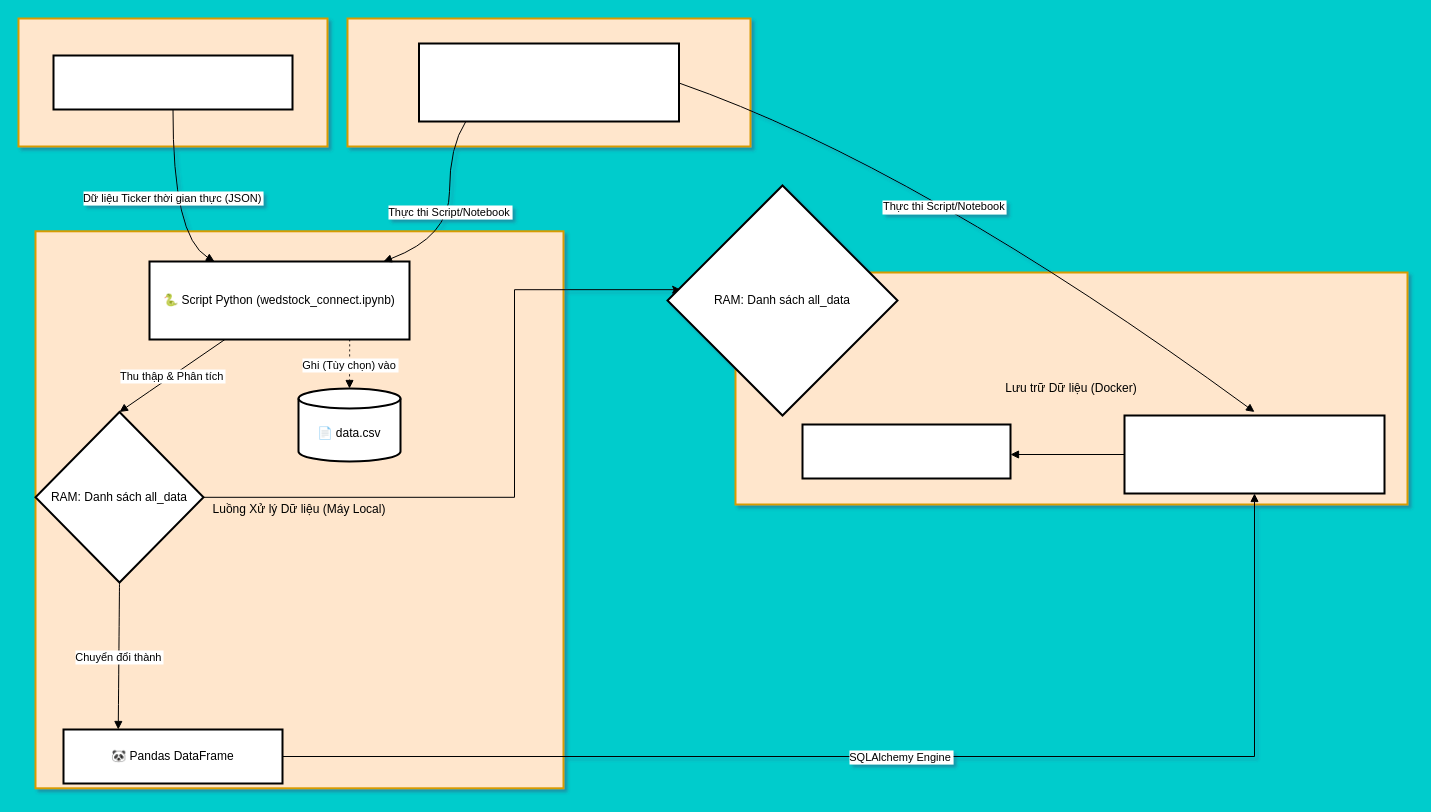
The diagram is 1431 pixels wide and 812 high, and some of its shapes have lost their labels. The shapes that lost their labels are listed below. From the top down, each one's box as (x1, y1, x2, y2) in pixels, then its label:
(52, 54, 293, 110): 🌐 Bitget WebSocket API
(418, 42, 680, 122): 🧑‍💻 Người dùng/Nhà phát triển
(801, 423, 1011, 479): 📋 Bảng coin_prices
(1123, 414, 1385, 494): 🐘 Cơ sở dữ liệu PostgreSQL
